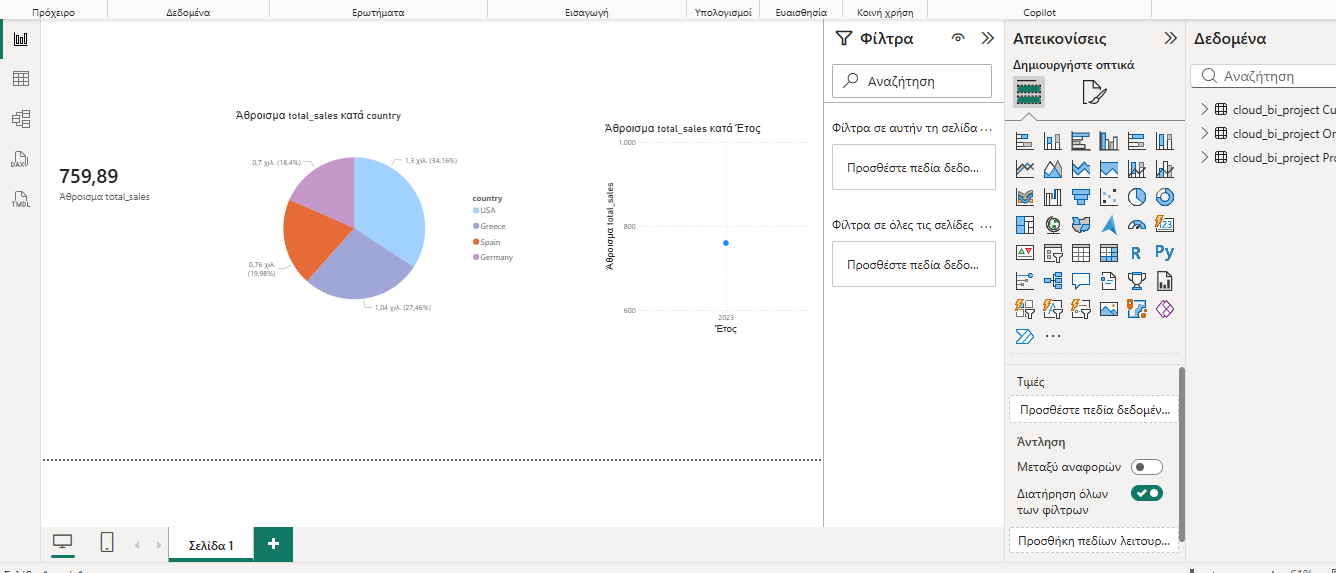

What the dashboard file says about the page in this screenshot:
{"tool":"powerbi","page":{"name":"Σελίδα 1","canvas":[1280,720],"ordinal":0},"visuals":[{"type":"cardVisual","fields":{"Data":["Sum(cloud_bi_project Orders.total_sales)"]},"box":[0,78.6,288.1,373.2],"z":0},{"type":"pieChart","fields":{"Category":["cloud_bi_project Customers.country"],"Y":["Sum(cloud_bi_project Orders.total_sales)"]},"box":[314.3,147.3,473,371.6],"z":1000},{"type":"lineChart","fields":{"Category":["cloud_bi_project Orders.order_date.Παραλλαγή.Ιεραρχία ημερομηνιών.Έτος","cloud_bi_project Orders.order_date.Παραλλαγή.Ιεραρχία ημερομηνιών.Τρίμηνο","cloud_bi_project Orders.order_date.Παραλλαγή.Ιεραρχία ημερομηνιών.Μήνας","cloud_bi_project Orders.order_date.Παραλλαγή.Ιεραρχία ημερομηνιών.Ημέρα"],"Y":["Sum(cloud_bi_project Orders.total_sales)"]},"box":[918.7,168.6,345.8,351],"z":2000}]}

Visuals, with their boxes on the page's 1280x720 design canvas (x1, y1, x2, y2). These are canvas units, not pixel positions in the 1336x573 screenshot, which may show the page scaled, cropped or inside an application window:
cardVisual - Sum(cloud_bi_project Orders.total_sales): 0,79,288,452
pieChart - cloud_bi_project Customers.country x Sum(cloud_bi_project Orders.total_sales): 314,147,787,519
lineChart - cloud_bi_project Orders.order_date.Παραλλαγή.Ιεραρχία ημερομηνιών.Έτος x cloud_bi_project Orders.order_date.Παραλλαγή.Ιεραρχία ημερομηνιών.Τρίμηνο: 919,169,1264,520
